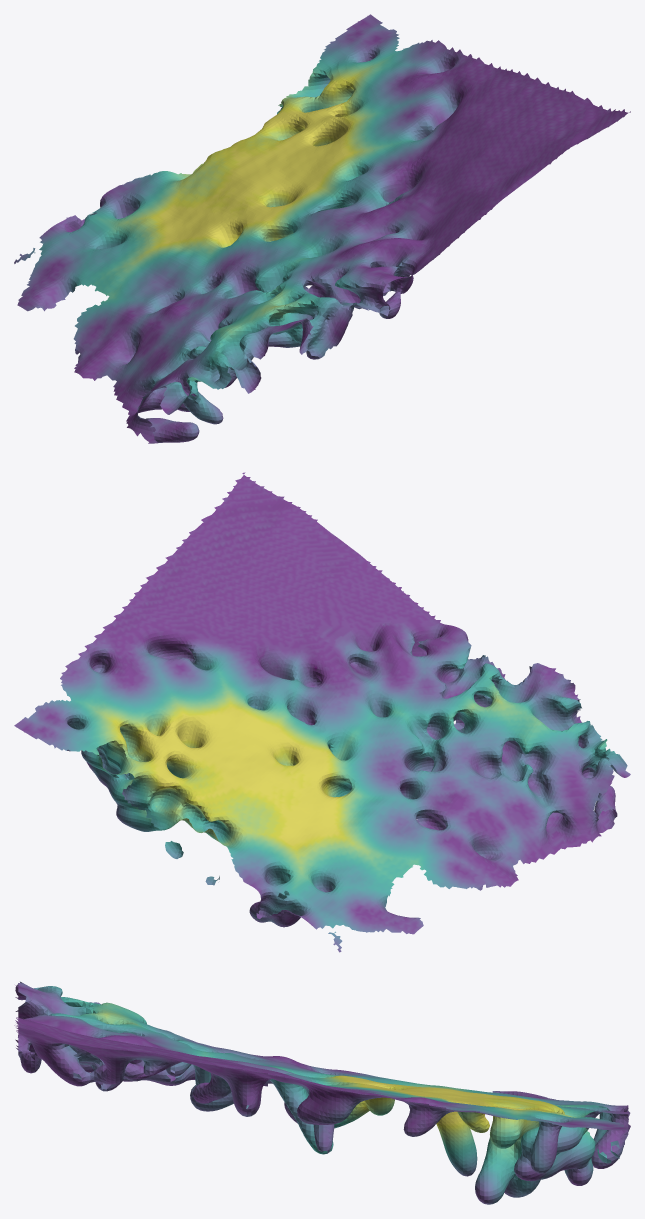
Rendered from crop1074_gap.glb.
3 views of the same model, one above another, from view 1: azimuth 30°, elevation 25°; view 2: azimuth 150°, elevation 25°; view 3: azimuth 270°, elevation 25° (orthographic). The views are drawn at different scales.
Parts seen in each view (by area): view 1: world; view 2: world; view 3: world.
Boxes of the visible parts, x1,y1,x2,y2 form: world: (14, 14, 630, 443); world: (14, 472, 630, 952); world: (14, 981, 630, 1204).
Bounding box in the file's own units: 2325 × 1264 × 2330.
